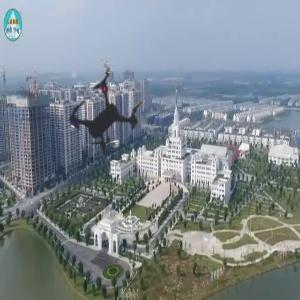drone: (27, 39, 190, 202)
